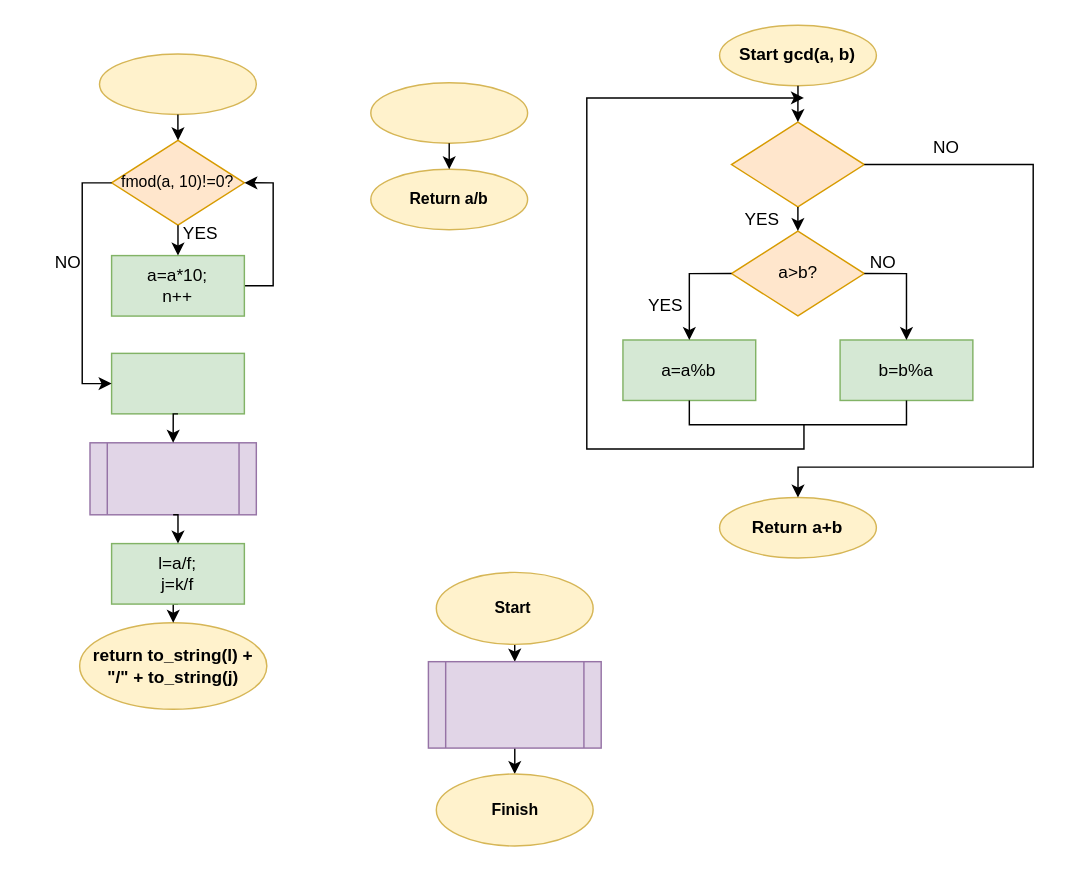
Image size: 1070x871. Some labels were removed from this diagram. The box of each missing label's shape, as (x1, y1, x2, y2) in pixels:
a!=0 and b!=0?: (730, 121, 864, 207)
f=gcd(a, k): (89, 441, 256, 515)
k=pow(10, n): (110, 352, 244, 414)
Start transition(a): (98, 53, 256, 114)
Start transition(a, b): (369, 81, 528, 143)
transition(a) or transition(a, b): (427, 660, 601, 748)
